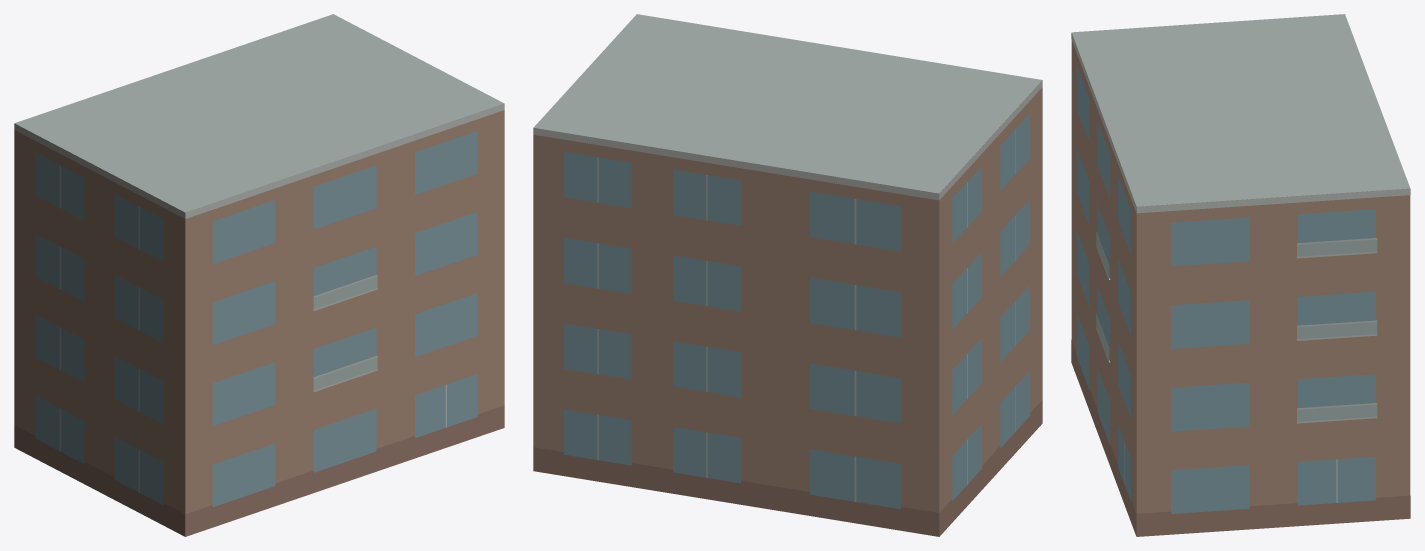
File: residential-dd473e71-a99e-4957-80f2-ab837f175727.glb
The picture shows the model from 3 angles, left to right: view 1: azimuth 30°, elevation 25°; view 2: azimuth 150°, elevation 25°; view 3: azimuth 270°, elevation 25°; orthographic projection. The views are drawn at different scales.
Parts seen in each view (by area): view 1: residential-dd473e71-a99e-4957-80f2-ab837f175727.tmp; view 2: residential-dd473e71-a99e-4957-80f2-ab837f175727.tmp; view 3: residential-dd473e71-a99e-4957-80f2-ab837f175727.tmp.
Boxes of the visible parts, x1,y1,x2,y2 form: residential-dd473e71-a99e-4957-80f2-ab837f175727.tmp: [14, 14, 504, 536]; residential-dd473e71-a99e-4957-80f2-ab837f175727.tmp: [533, 14, 1042, 536]; residential-dd473e71-a99e-4957-80f2-ab837f175727.tmp: [1071, 14, 1410, 536].
Size of the model in its own units: 15.29 by 12.2 by 11.37.
